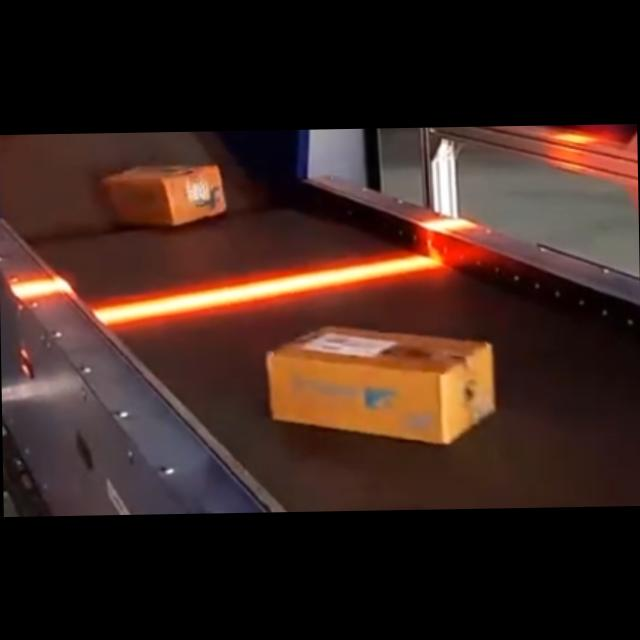box: (264, 321, 496, 443), (106, 163, 227, 226)
